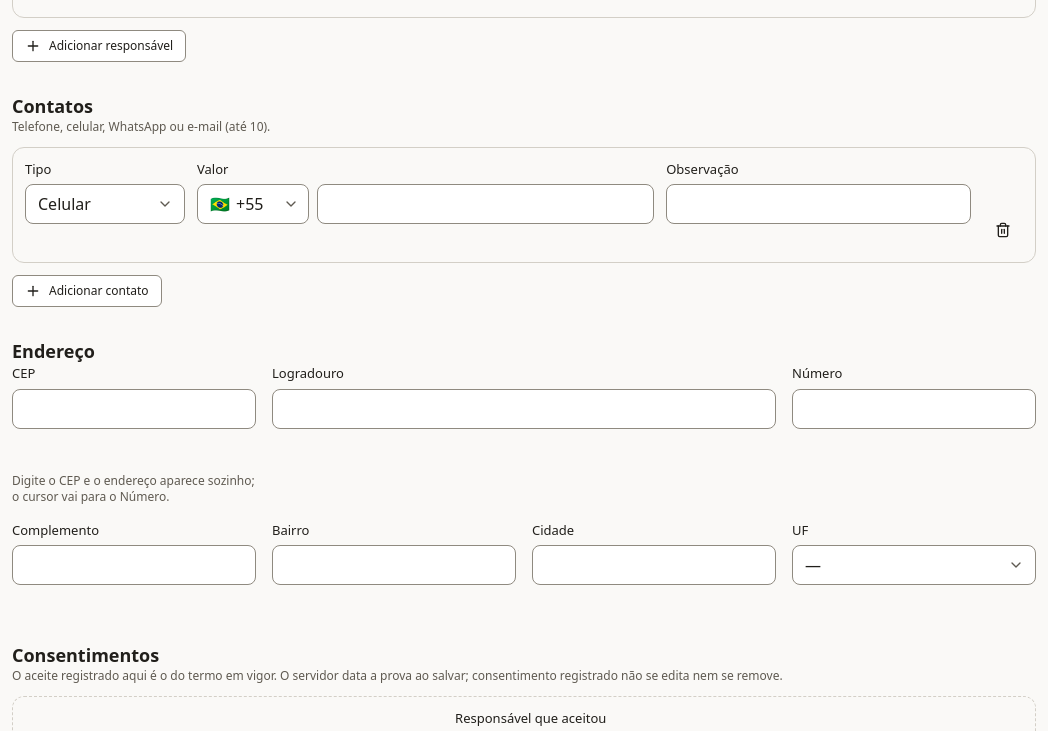
O CEP preenche o endereço — recepção › NÃO deve arrancar o foco de quem já saiu do CEP
(page scrolled)
ACT — digita o CEP e IMEDIATAMENTE vai para o logradouro escrever à mão
Type "88501050" into the field labelled "CEP" at (134, 408), box [12,388,256,428]
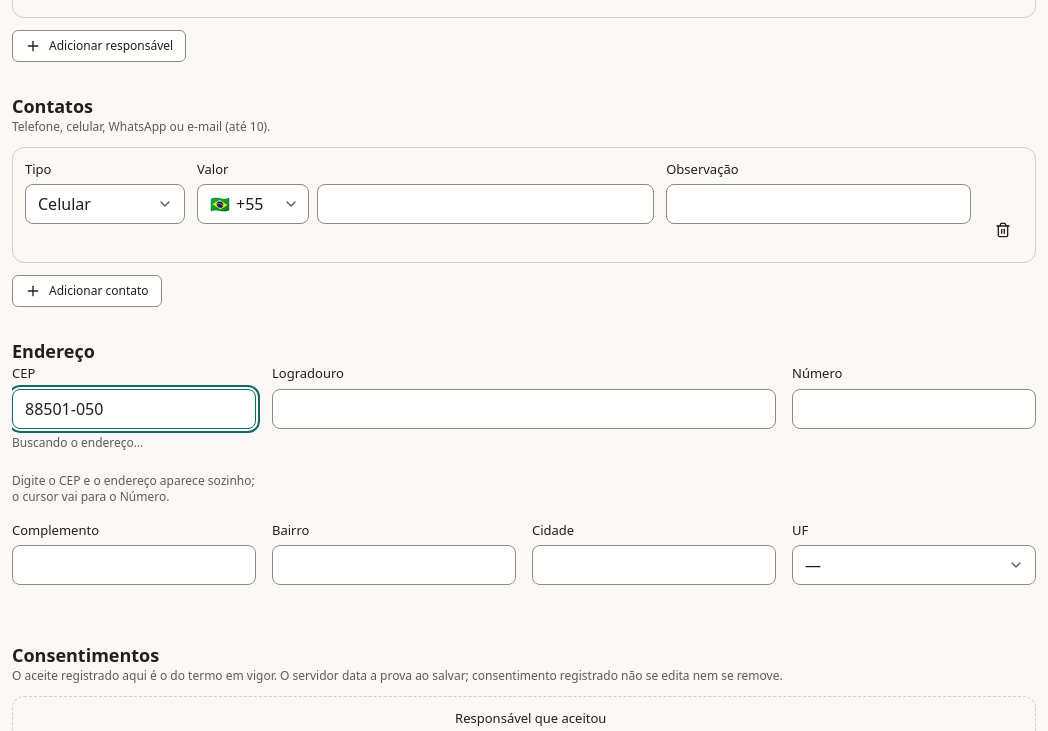
Type "Rua que eu digitei" into the field labelled "Logradouro" at (524, 408), box [272,388,776,428]
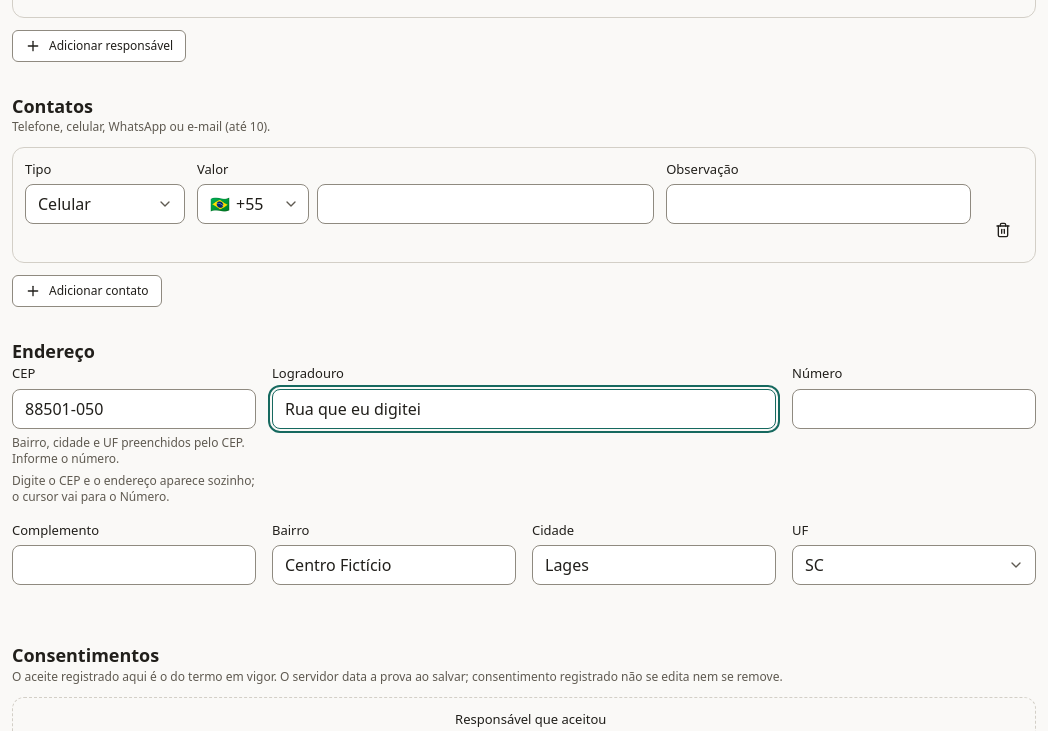
Result: the field labelled "Bairro" holds "Centro Fictício" at [272,546,516,586]
